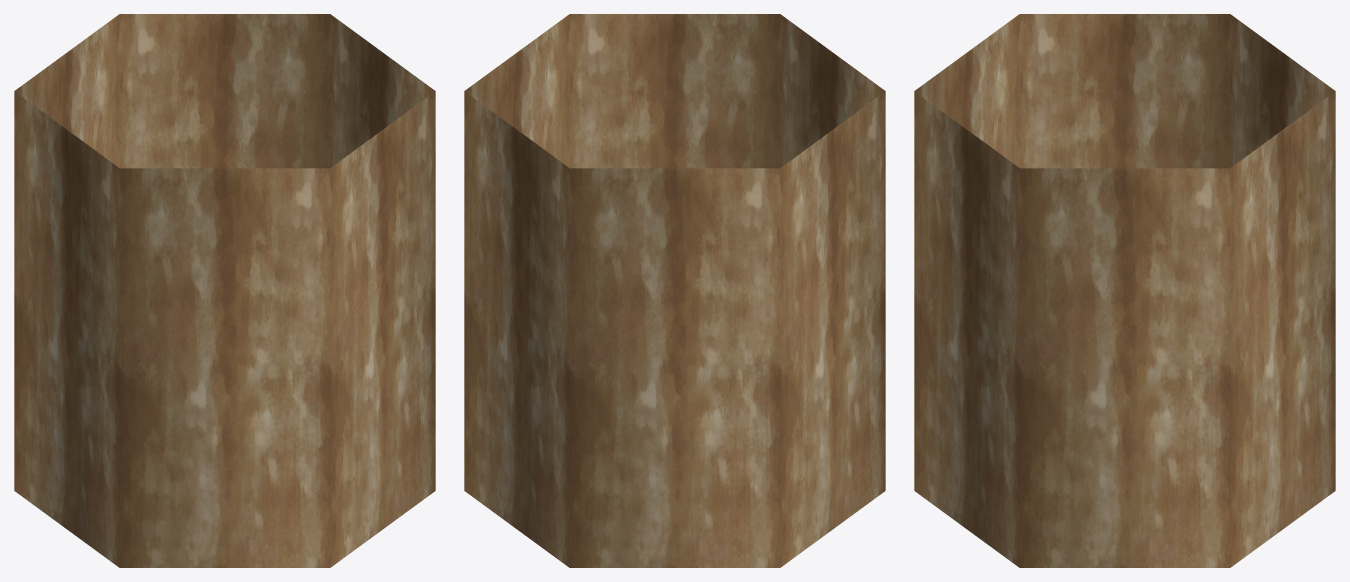
File: scenery-7.glb
The picture shows the model from 3 angles, left to right: view 1: azimuth 30°, elevation 25°; view 2: azimuth 150°, elevation 25°; view 3: azimuth 270°, elevation 25°; orthographic projection.
Size of the model in its own units: 6.4 by 7.73 by 7.38.
1 material, 1 textured.
